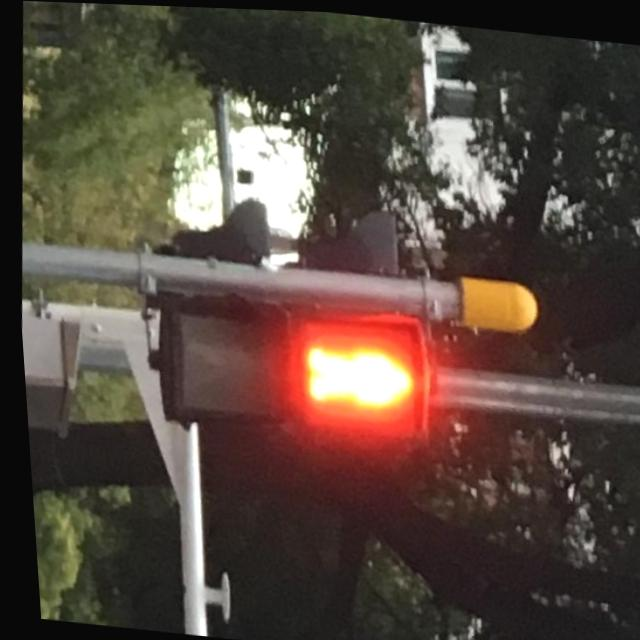red_light: (288, 319, 416, 423)
